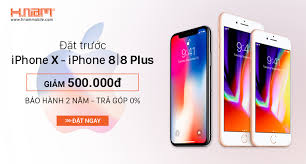iphone: (248, 29, 293, 150)
iphone8: (247, 29, 292, 150)
